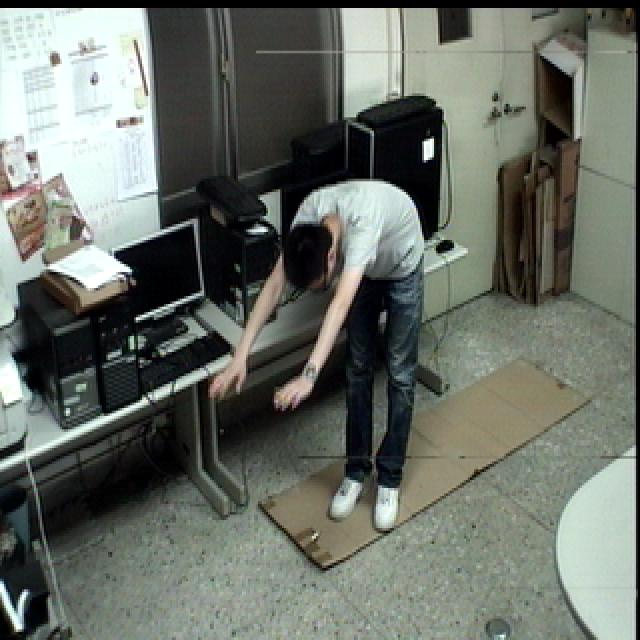bend: (201, 178, 434, 532)
